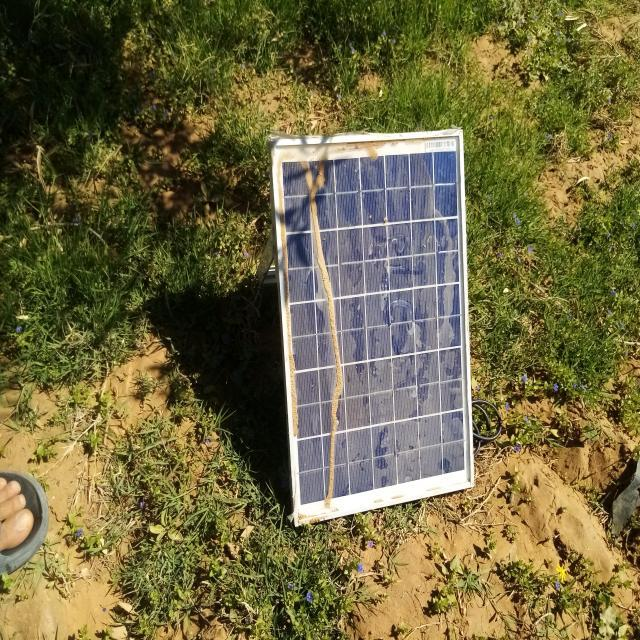faulty: (273, 133, 473, 524)
